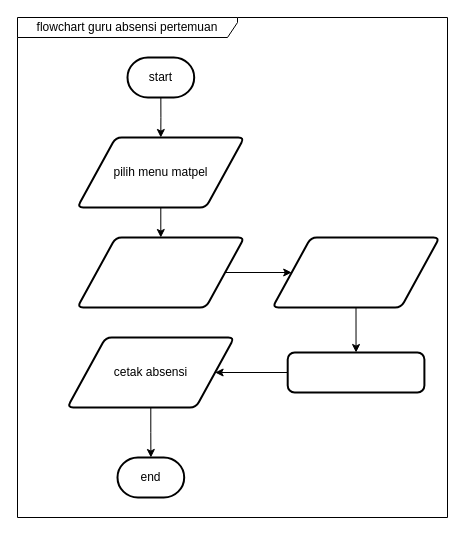
This 465x535 diagram has some shape labels left out. The shapes that lost their labels are listed below. From the top down, each one's centre as x and y in pixels, then its label:
(160,272): pilih pelajaran
(355,272): pilih pertemuan
(355,372): sort absensi by pertemuan
